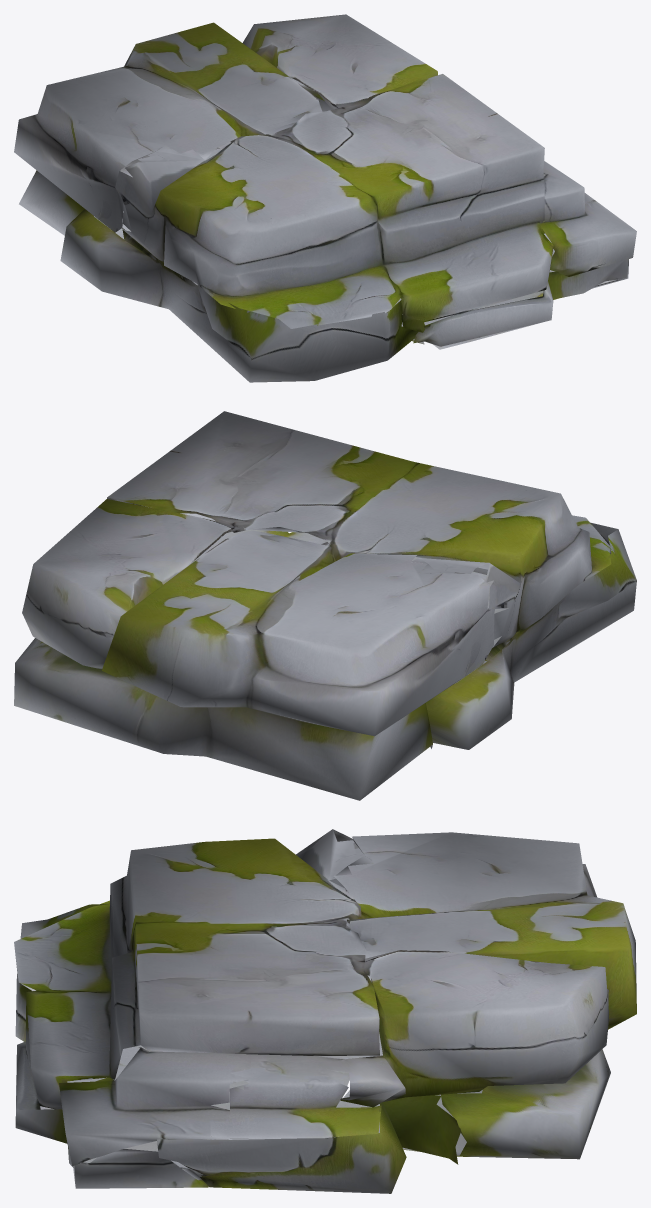
The picture shows the model from 3 angles, top to bottom: view 1: azimuth 30°, elevation 25°; view 2: azimuth 150°, elevation 25°; view 3: azimuth 270°, elevation 25°; orthographic projection. The views are drawn at different scales.
Parts seen in each view (by area): view 1: quad; view 2: quad; view 3: quad.
Part boxes in pixels (bbox=[...]): quad: bbox=[14, 14, 636, 382]; quad: bbox=[14, 411, 636, 800]; quad: bbox=[14, 829, 636, 1193].
Bounding box in the file's own units: 268 × 84.86 × 300.
1 material, 1 textured.
